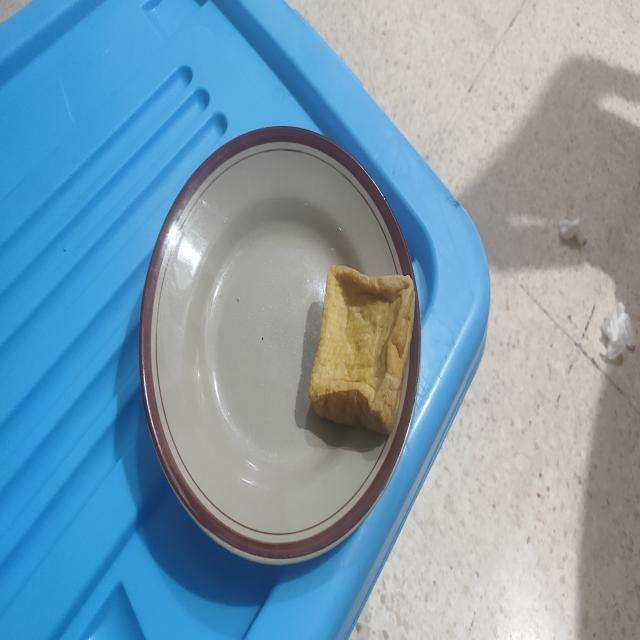tahu_goreng: (309, 265, 415, 435)
